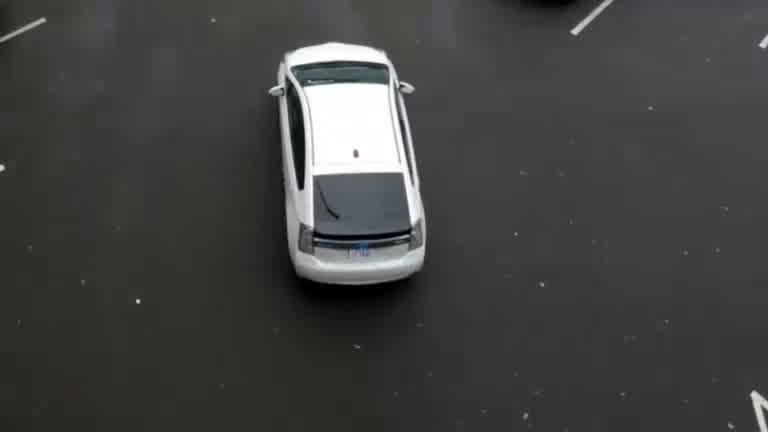car: (247, 29, 497, 298)
